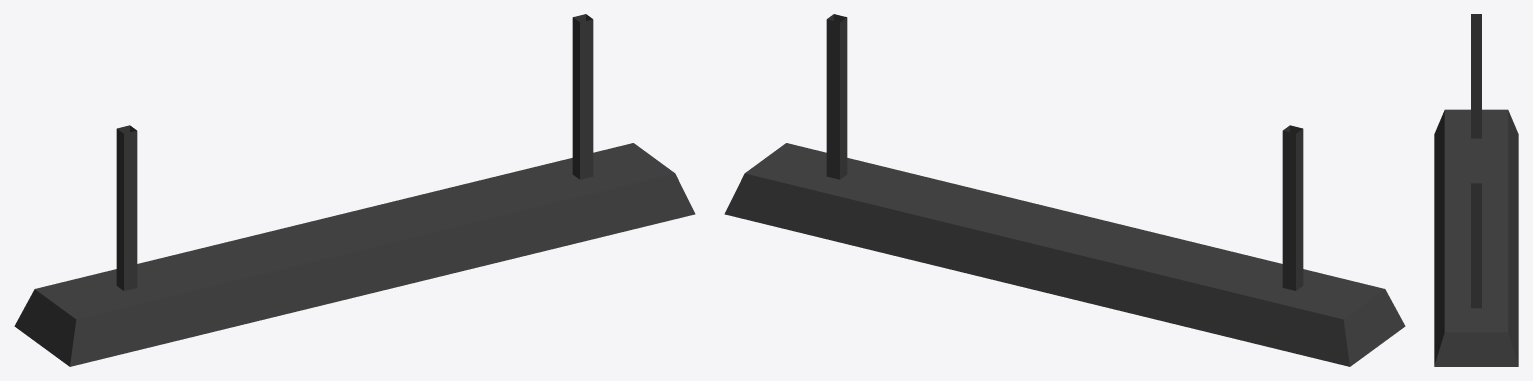
The model's file is Ceiling Lamp 3.fbx.
The picture shows the model from 3 angles, left to right: view 1: azimuth 30°, elevation 25°; view 2: azimuth 150°, elevation 25°; view 3: azimuth 270°, elevation 25°; orthographic projection. The views are drawn at different scales.
Visible parts, largest first — view 1: Ceiling Lamp 3; view 2: Ceiling Lamp 3; view 3: Ceiling Lamp 3.
Part boxes in pixels (<box>): Ceiling Lamp 3: <box>14,14,695,366</box>; Ceiling Lamp 3: <box>724,14,1405,366</box>; Ceiling Lamp 3: <box>1434,14,1518,366</box>.
Size of the model in its own units: 108 by 32.96 by 16.57.
